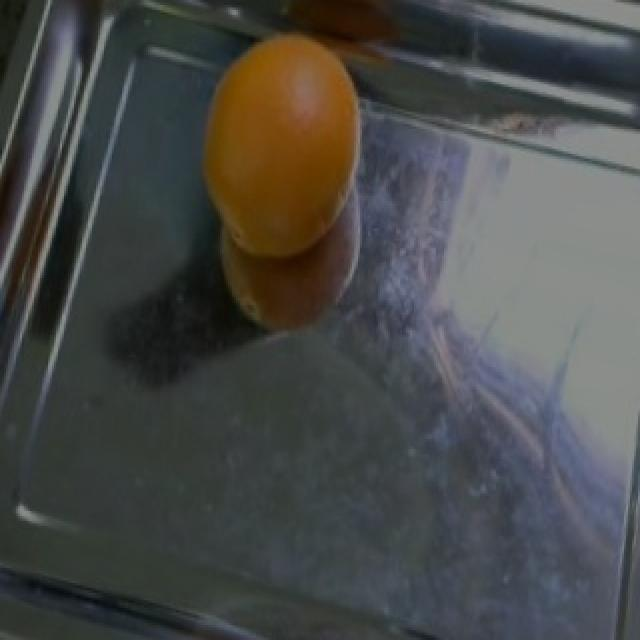Fruit: (180, 12, 378, 288)
